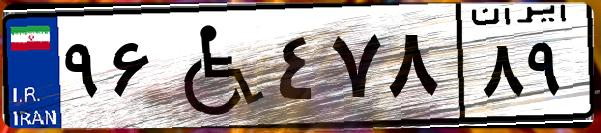4: (270, 28, 330, 110)
6: (110, 28, 158, 98)
7: (330, 28, 385, 110)
8: (385, 28, 445, 110), (475, 38, 525, 113)
9: (57, 26, 110, 100), (525, 38, 570, 115)
ژ (معلولین و جانبازان): (158, 12, 270, 120)
